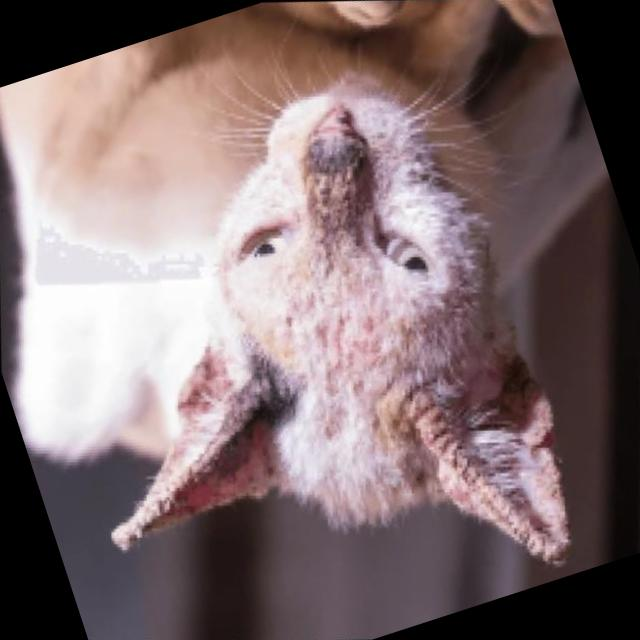Mange: (391, 380, 574, 562), (108, 388, 267, 541), (476, 340, 589, 467), (158, 334, 246, 430), (305, 148, 380, 226), (308, 386, 368, 454), (302, 328, 363, 387), (263, 293, 317, 350), (344, 300, 398, 352)
